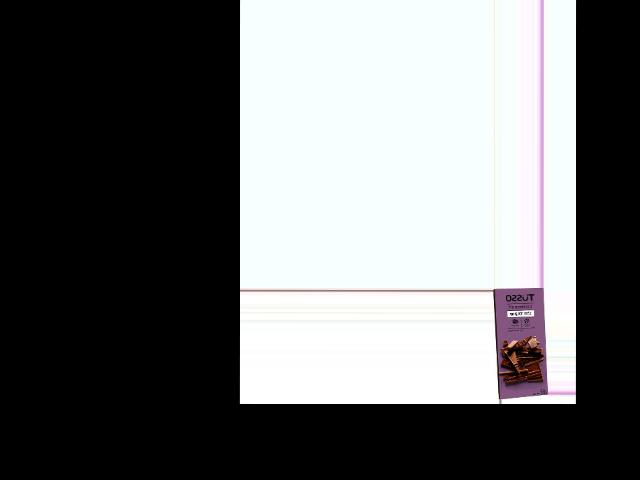chocolate: (496, 290, 544, 399)
